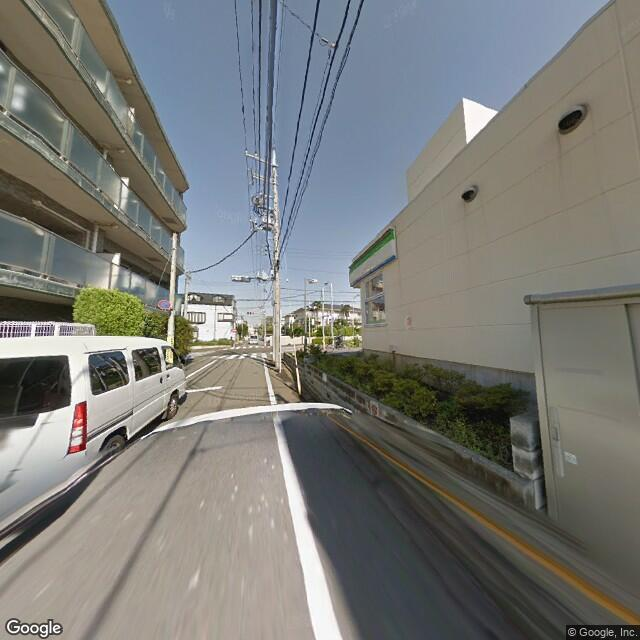family_mart: (348, 223, 398, 286)
